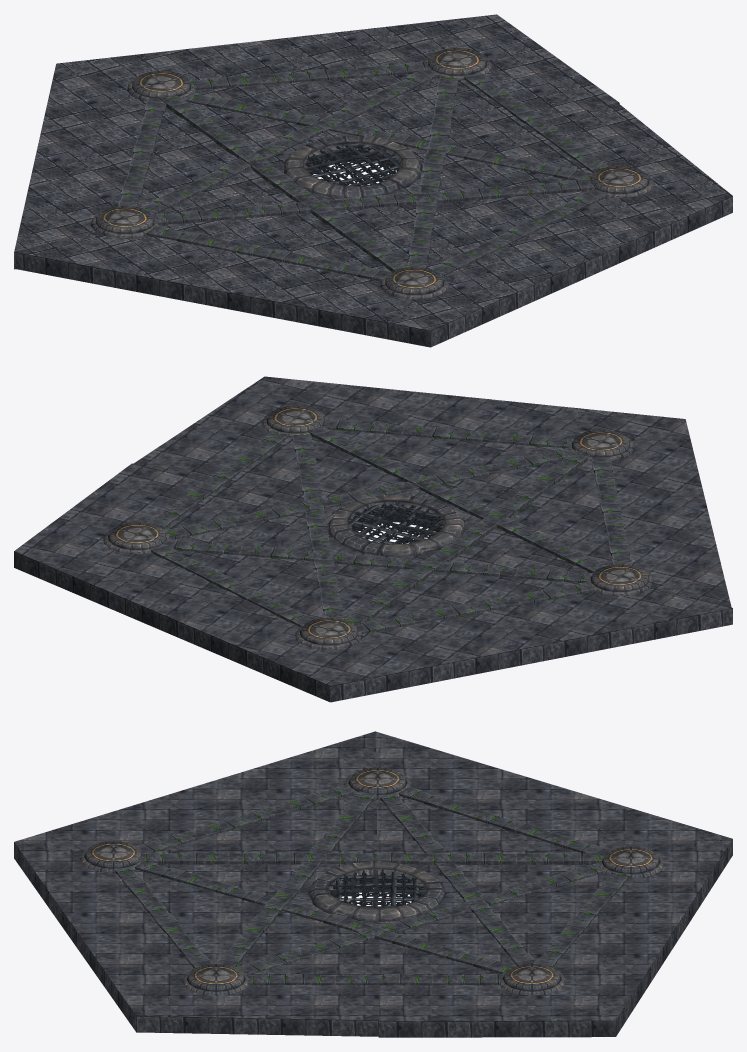
The model's file is PlatformStar.gltf.
The picture shows the model from 3 angles, top to bottom: view 1: azimuth 30°, elevation 25°; view 2: azimuth 150°, elevation 25°; view 3: azimuth 270°, elevation 25°; orthographic projection. The views are drawn at different scales.
Visible parts, largest first — view 1: PolyShape (2), PolyShape (1), P_PROP_platform_grid_dungeon, P_PROP_platform_dungeon (4), P_PROP_platform_dungeon (3), P_PROP_platform_dungeon, P_PROP_platform_dungeon (2), P_PROP_platform_dungeon (1), P_MOD_WallCover_01_E_straight (13), P_MOD_WallCover_01_E_straight (26), P_MOD_WallCover_01_E_straight (10), P_MOD_WallCover_01_E_straight (29) (+36 smaller); view 2: PolyShape (1), PolyShape (2), P_PROP_platform_grid_dungeon, P_PROP_platform_dungeon (2), P_PROP_platform_dungeon (3), P_PROP_platform_dungeon (1), P_PROP_platform_dungeon, P_PROP_platform_dungeon (4), P_MOD_WallCover_01_E_straight (7), P_MOD_WallCover_01_E_straight (4), P_MOD_WallCover_01_E_straight (31), P_MOD_WallCover_01_E_straight (39) (+36 smaller); view 3: PolyShape (2), PolyShape (1), P_PROP_platform_grid_dungeon, P_PROP_platform_dungeon, P_PROP_platform_dungeon (1), P_PROP_platform_dungeon (2), P_PROP_platform_dungeon (4), P_PROP_platform_dungeon (3), P_MOD_WallCover_01_E_straight (37), P_MOD_WallCover_01_E_straight (36), P_MOD_WallCover_01_E_straight (35), P_MOD_WallCover_01_E_straight (38) (+36 smaller).
Part boxes in pixels (box(x1,y1,x2,y2)): PolyShape (2): box(14, 103, 732, 347); PolyShape (1): box(14, 14, 619, 269); P_PROP_platform_grid_dungeon: box(284, 136, 422, 198); P_PROP_platform_dungeon (4): box(380, 267, 448, 299); P_PROP_platform_dungeon (3): box(91, 206, 158, 238); P_PROP_platform_dungeon: box(587, 166, 653, 198); P_PROP_platform_dungeon (2): box(127, 70, 195, 101); P_PROP_platform_dungeon (1): box(424, 48, 491, 80); P_MOD_WallCover_01_E_straight (13): box(259, 68, 360, 84); P_MOD_WallCover_01_E_straight (26): box(416, 186, 514, 204); P_MOD_WallCover_01_E_straight (10): box(223, 241, 320, 267); P_MOD_WallCover_01_E_straight (29): box(328, 193, 425, 210); PolyShape (1): box(14, 463, 732, 702); PolyShape (2): box(133, 376, 731, 607); P_PROP_platform_grid_dungeon: box(328, 494, 464, 556); P_PROP_platform_dungeon (2): box(295, 618, 362, 649); P_PROP_platform_dungeon (3): box(588, 564, 653, 596); P_PROP_platform_dungeon (1): box(103, 522, 169, 554); P_PROP_platform_dungeon: box(262, 406, 327, 437); P_PROP_platform_dungeon (4): box(568, 430, 634, 460); P_MOD_WallCover_01_E_straight (7): box(423, 596, 519, 621); P_MOD_WallCover_01_E_straight (4): box(401, 426, 500, 442); P_MOD_WallCover_01_E_straight (31): box(239, 546, 338, 561); P_MOD_WallCover_01_E_straight (39): box(436, 519, 496, 561); PolyShape (2): box(14, 731, 380, 1036); PolyShape (1): box(375, 731, 732, 1037); P_PROP_platform_grid_dungeon: box(308, 861, 446, 922); P_PROP_platform_dungeon: box(182, 964, 248, 995); P_PROP_platform_dungeon (1): box(500, 963, 565, 995); P_PROP_platform_dungeon (2): box(598, 846, 664, 878); P_PROP_platform_dungeon (4): box(80, 841, 141, 872); P_PROP_platform_dungeon (3): box(344, 767, 411, 799); P_MOD_WallCover_01_E_straight (37): box(229, 852, 326, 864); P_MOD_WallCover_01_E_straight (36): box(419, 852, 516, 865); P_MOD_WallCover_01_E_straight (35): box(138, 852, 228, 864); P_MOD_WallCover_01_E_straight (38): box(516, 852, 605, 864).
Bounding box in the file's own units: 28.13 × 1.04 × 29.45.
Materials: 4 (4 with a texture image).
